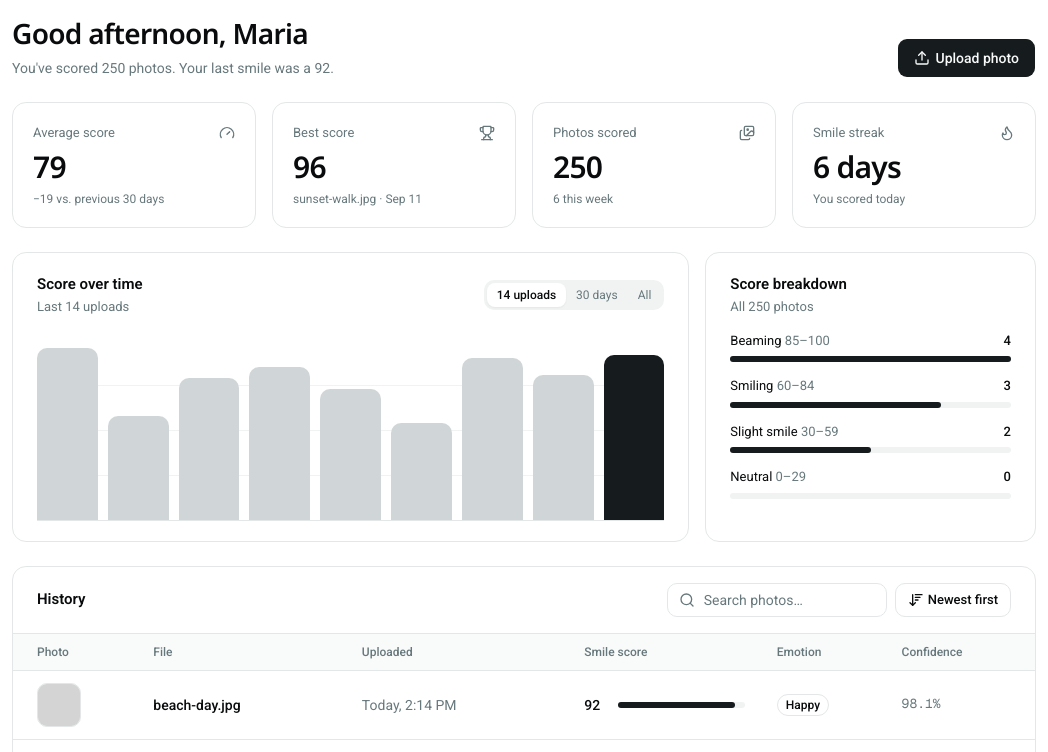
Test: DashboardView › says when the chart only covers recent uploads
Click the button "All".
click(645, 294)  # box [628,282,661,306]
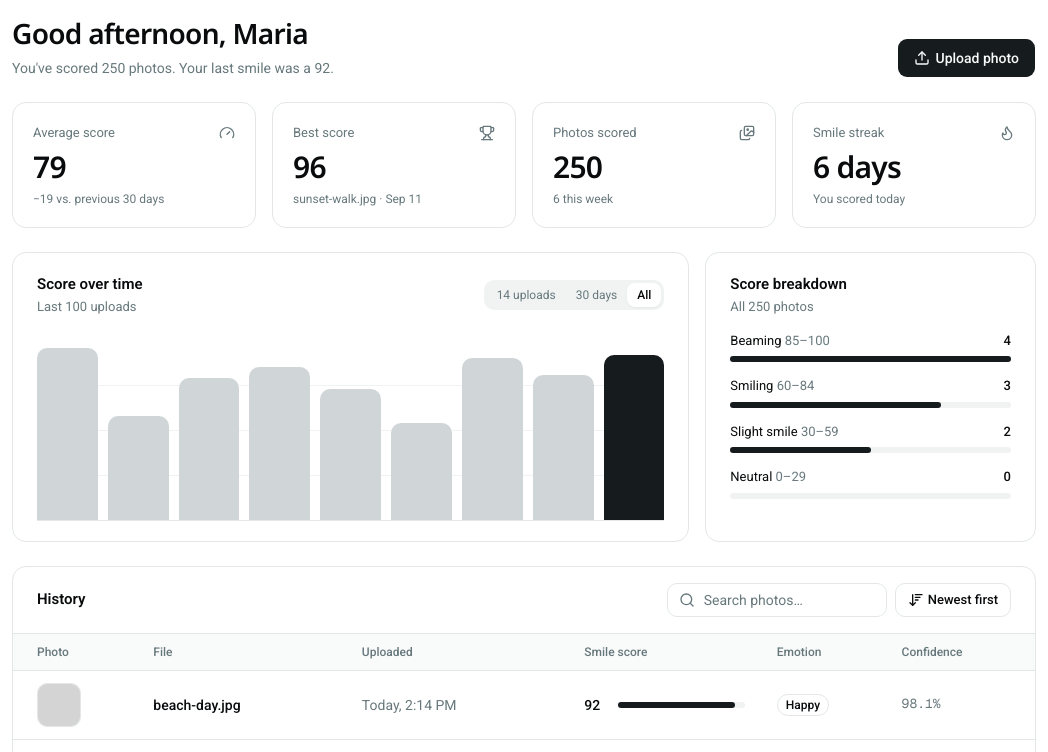
Expected: the text "Last 100 uploads" is shown, [37,299,137,314]
